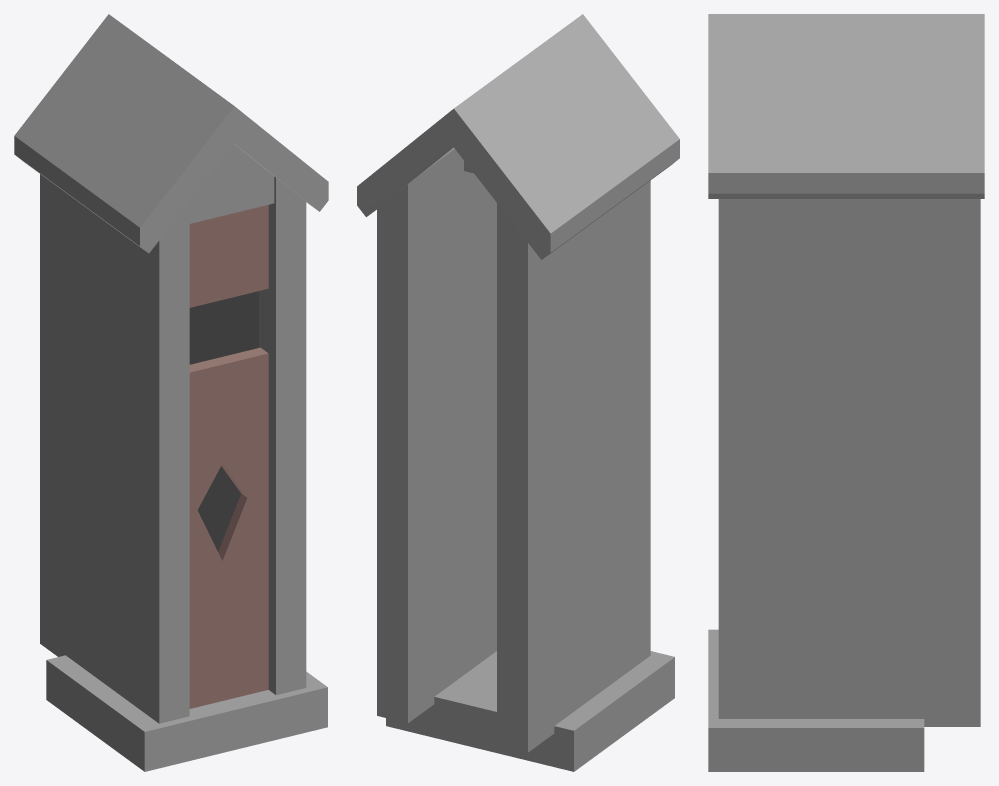
File: envRoofWindow_01.fbx
3 renders of one model, left to right at view 1: azimuth 30°, elevation 25°; view 2: azimuth 150°, elevation 25°; view 3: azimuth 270°, elevation 25°, orthographic. The views are drawn at different scales.
Parts seen in each view (by area): view 1: envRoofWIndow_01; view 2: envRoofWIndow_01; view 3: envRoofWIndow_01.
Part boxes in pixels (x1=…): envRoofWIndow_01: x1=14, y1=14, x2=328, y2=771; envRoofWIndow_01: x1=357, y1=14, x2=679, y2=771; envRoofWIndow_01: x1=708, y1=14, x2=984, y2=771.
Bounding box in the file's own units: 0.3951 × 1.29 × 0.4565.
